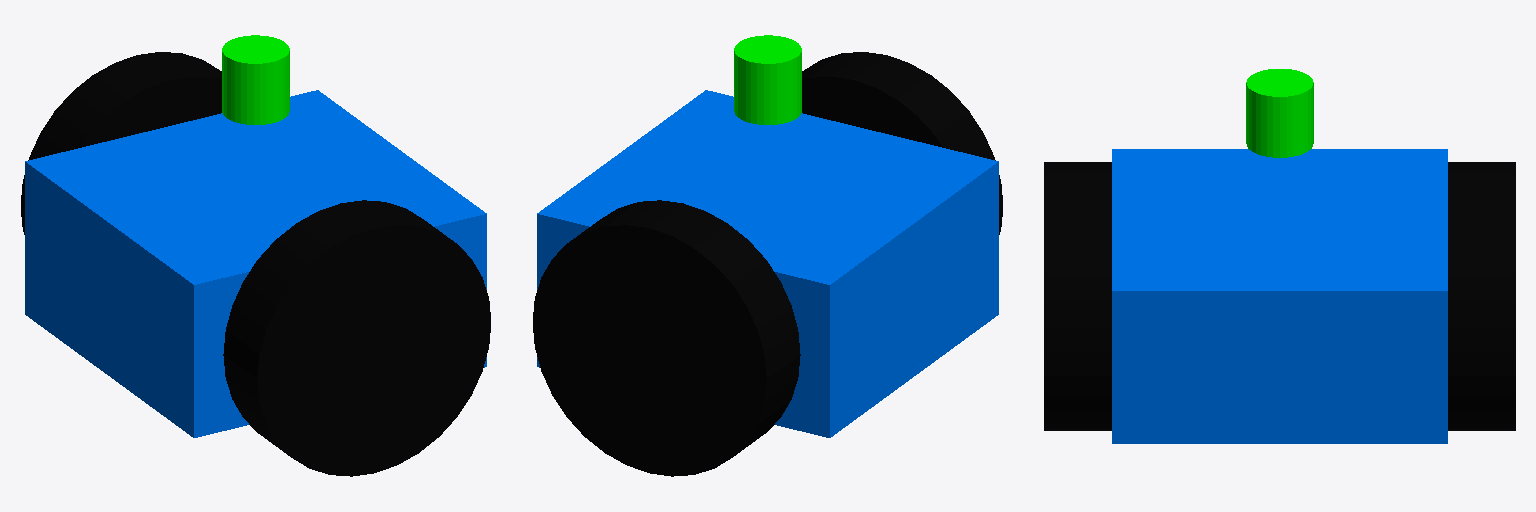
The robot description file, URDF, robot "dd_robot":
<?xml version='1.0'?>
<robot name="dd_robot">
    <!-- 小车主体 -->
    <link name="base_link">
        <visual>
            <origin xyz="0.0 0.0 0.0" rpy="0.0 0.0 0.0"/>
            <geometry>
                <box size="0.5 0.5 0.25" />
            </geometry>
            <material name="blue">
                <color rgba="0.0 0.5 1.0 1.0"/>
            </material>
        </visual>
        <collision>
            <origin xyz="0.0 0.0 0.0" rpy="0.0 0.0 0.0"/>
            <geometry>
                <box size="0.5 0.5 0.25"/>
            </geometry>
        </collision>
        <inertial>
            <mass value="5"/>
            <inertia ixx="0.13" ixy="0.0" ixz="0.0" iyy="0.21" iyz="0.0" izz="0.13"/>
        </inertial>
    </link>

    <!-- 2D 雷达 -->
    <link name="laser_link">
        <visual>
            <origin xyz="0 0 0" rpy="0 0 0"/>
            <geometry><cylinder radius="0.05" length="0.1"/></geometry>
            <material><color rgba="0 1 0 1"/></material>
        </visual>
        <collision>
            <geometry><cylinder radius="0.05" length="0.1"/></geometry>
        </collision>
        <inertial>
            <mass value="0.1"/>
            <inertia ixx="0.001" iyy="0.001" izz="0.001" ixy="0" ixz="0" iyz="0"/>
        </inertial>
    </link>
    <joint name="laser_joint" type="fixed">
        <parent link="base_link"/>
        <child link="laser_link"/>
        <origin xyz="0 0 0.3" rpy="0 0 0"/>
    </joint>

    <gazebo reference="laser_link">
        <sensor type="ray" name="laser_sensor">
            <pose>0 0 0 0 0 0</pose>
            <ray>
                <scan>
                    <horizontal>
                        <samples>180</samples>
                        <resolution>1</resolution>
                        <min_angle>-1.57</min_angle>
                        <max_angle>1.57</max_angle>
                    </horizontal>
                </scan>
                <range>
                    <min>0.1</min>
                    <max>5.0</max>
                    <resolution>0.01</resolution>
                </range>
            </ray>
            <plugin name="gazebo_ros_laser_controller" filename="libgazebo_ros_laser.so">
                <topicName>/scan</topicName>
                <frameName>laser_link</frameName>
            </plugin>
        </sensor>
    </gazebo>

    <!-- 轮子定义 -->
    <link name="right_wheel">
        <inertial>
            <mass value="1.0"/>
            <inertia ixx="0.001" iyy="0.001" izz="0.001" ixy="0.0" ixz="0.0" iyz="0.0"/>
        </inertial>
        <visual>
            <origin xyz="0.0 0.0 0.0" rpy="1.570795 0.0 0.0"/>
            <geometry>
                <cylinder length="0.1" radius="0.2"/>
            </geometry>
            <material name="black">
                <color rgba="0.05 0.05 0.05 1.0"/>
            </material>
        </visual>
        <collision>
            <origin xyz="0.0 0.0 0.0" rpy="1.570795 0.0 0.0"/>
            <geometry>
                <cylinder length="0.1" radius="0.2"/>
            </geometry>
        </collision>
    </link>

    <joint name="join_right_wheel" type="continuous">
        <parent link="base_link"/>
        <child link="right_wheel"/>
        <origin xyz="0.0 -0.30 0.0" rpy="0.0 0.0 0.0"/>
        <axis xyz="0.0 1.0 0.0"/>
    </joint>

    <link name="left_wheel">
        <inertial>
            <mass value="1.0"/>
            <inertia ixx="0.001" iyy="0.001" izz="0.001" ixy="0.0" ixz="0.0" iyz="0.0"/>
        </inertial>
        <visual>
            <origin xyz="0.0 0.0 0.0" rpy="1.570795 0.0 0.0"/>
            <geometry>
                <cylinder length="0.1" radius="0.2"/>
            </geometry>
            <material name="black"/>
        </visual>
        <collision>
            <origin xyz="0.0 0.0 0.0" rpy="1.570795 0.0 0.0"/>
            <geometry>
                <cylinder length="0.1" radius="0.2"/>
            </geometry>
        </collision>
    </link>

    <joint name="join_left_wheel" type="continuous">
        <parent link="base_link"/>
        <child link="left_wheel"/>
        <origin xyz="0.0 0.3 0.0" rpy="0.0 0.0 0.0"/>
        <axis xyz="0.0 1.0 0.0"/>
    </joint>

    <gazebo reference="base_link">
        <material>Gazebo/Blue</material>
    </gazebo>
    <gazebo reference="right_wheel">
        <material>Gazebo/Black</material>
    </gazebo>
    <gazebo reference="left_wheel">
        <material>Gazebo/Black</material>
    </gazebo>

    <!-- 3D 雷达：Livox AVIA 雷达 -->
    <link name="livox_base">
    <visual>
      <origin xyz="0 0 0" rpy="0 0 0"/>
      <geometry>
        <mesh filename="package://livox_laser_simulation/meshes/livox_mid40.dae"/>
      </geometry>
    </visual>
    <collision>
      <origin xyz="0 0 0" rpy="0 0 0"/>
      <geometry>
        <mesh filename="package://livox_laser_simulation/meshes/livox_mid40.dae"/>
      </geometry>
    </collision>
    <inertial>
      <mass value="0.1"/>
      <inertia ixx="0.001" iyy="0.001" izz="0.001" ixy="0" ixz="0" iyz="0"/>
    </inertial>
  </link>

  <joint name="livox_to_base_link" type="fixed">
    <parent link="base_link"/>
    <child link="livox_base"/>
    <origin xyz="0 0 0.35" rpy="0 0 0"/>
  </joint>

  <gazebo reference="livox_base">
    <sensor type="depth" name="livox_sensor">
      <update_rate>10</update_rate>
      <camera>
        <horizontal_fov>1.23</horizontal_fov> <!-- 70.4° -->
        <image>
          <width>640</width>
          <height>480</height>
          <format>R8G8B8</format>
        </image>
        <clip>
          <near>0.1</near>
          <far>200.0</far>
        </clip>
      </camera>
      <plugin name="gazebo_ros_depth_camera_controller" filename="libgazebo_ros_depth_camera.so">
        <frameName>livox_base</frameName>
        <pointCloudTopicName>/livox_points</pointCloudTopicName>
        <depthImageTopicName>/livox/depth/image_raw</depthImageTopicName>
        <colorImageTopicName>/livox/color/image_raw</colorImageTopicName>
        <pointCloudCutoff>0.1</pointCloudCutoff>
      </plugin>
    </sensor>
  </gazebo>
  
</robot>

--- What the picture shows (computed from the rendered views, not written in the file) ---
3 views of the same robot in one strip: view 1: azimuth 30°, elevation 25°; view 2: azimuth 150°, elevation 25°; view 3: azimuth 270°, elevation 25° (orthographic).
Robot: dd_robot — 5 links, 4 joints (2 continuous, 2 fixed); root link base_link; default pose: all joints at 0.
Visible links, largest first — view 1: base_link, right_wheel, left_wheel, laser_link; view 2: base_link, left_wheel, right_wheel, laser_link; view 3: base_link, right_wheel, left_wheel, laser_link.
Boxes of the visible links, x1,y1,x2,y2 form: base_link: (25, 90, 486, 437); right_wheel: (223, 200, 490, 476); left_wheel: (21, 52, 221, 234); laser_link: (222, 35, 289, 124); base_link: (537, 90, 998, 437); left_wheel: (533, 200, 800, 476); right_wheel: (802, 52, 1002, 234); laser_link: (734, 35, 801, 124); base_link: (1112, 149, 1447, 443); right_wheel: (1044, 162, 1111, 430); left_wheel: (1448, 162, 1515, 430); laser_link: (1246, 69, 1313, 157).
Size in the robot's own frame: 0.5 by 0.7 by 0.55 metres.
0 mesh visuals loaded from 1 distinct referenced files (none loaded); not drawn: 1 (reference not matched to a file when rendering).
